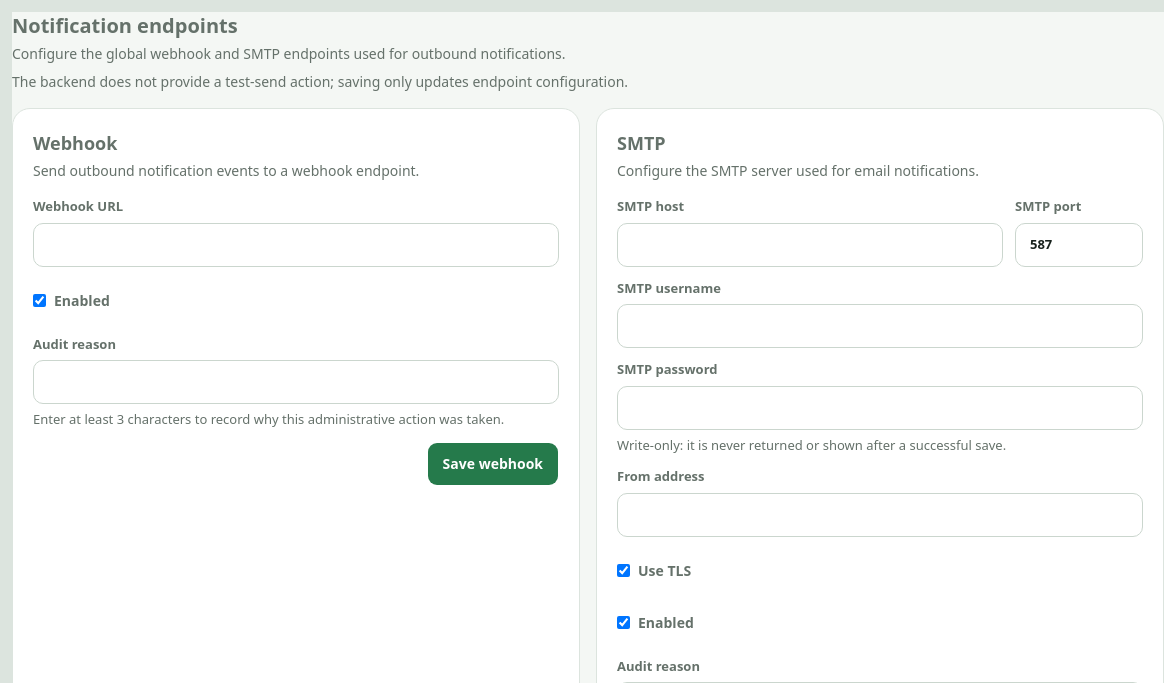
it: shows a localized error without hiding the rest of the form when saving fails
The width and height of the screenshot is (1164, 683).
Check: the heading "Notification endpoints" is shown, box [12,12,238,39]
Type "https://hooks.example.test/frostvault" into the field labelled "Webhook URL" at (296, 244), box [33,222,559,266]
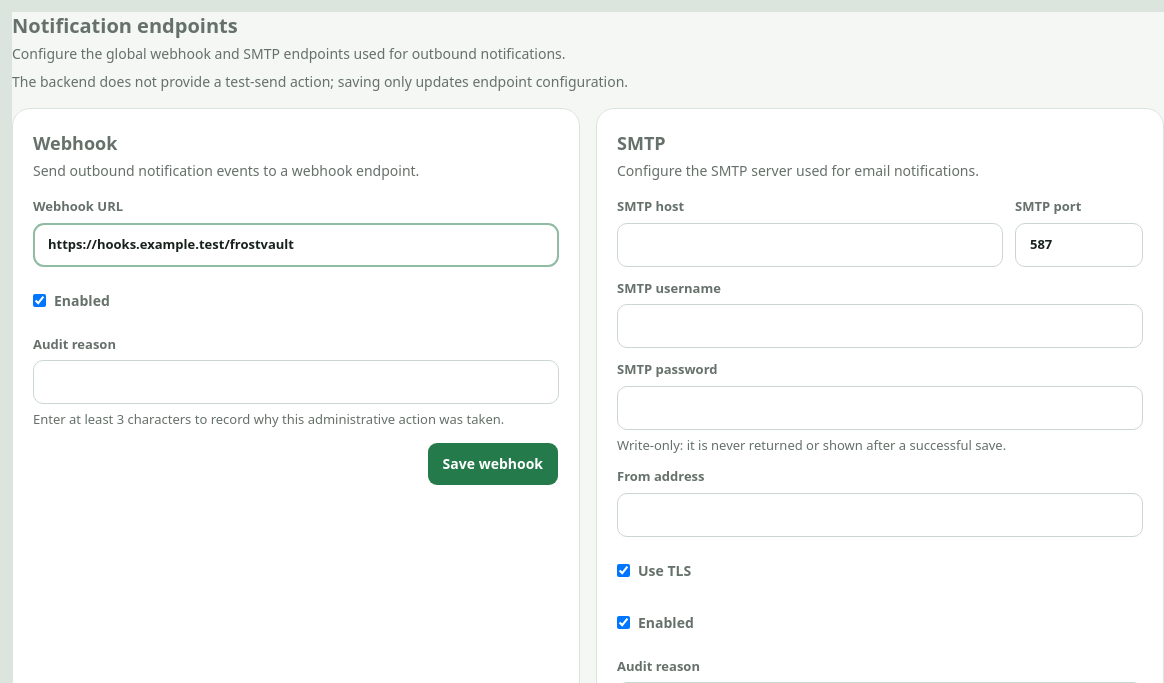
Type "retry webhook" into the field labelled "Audit reason" below "Webhook URL" at (296, 382), box [33,360,559,404]
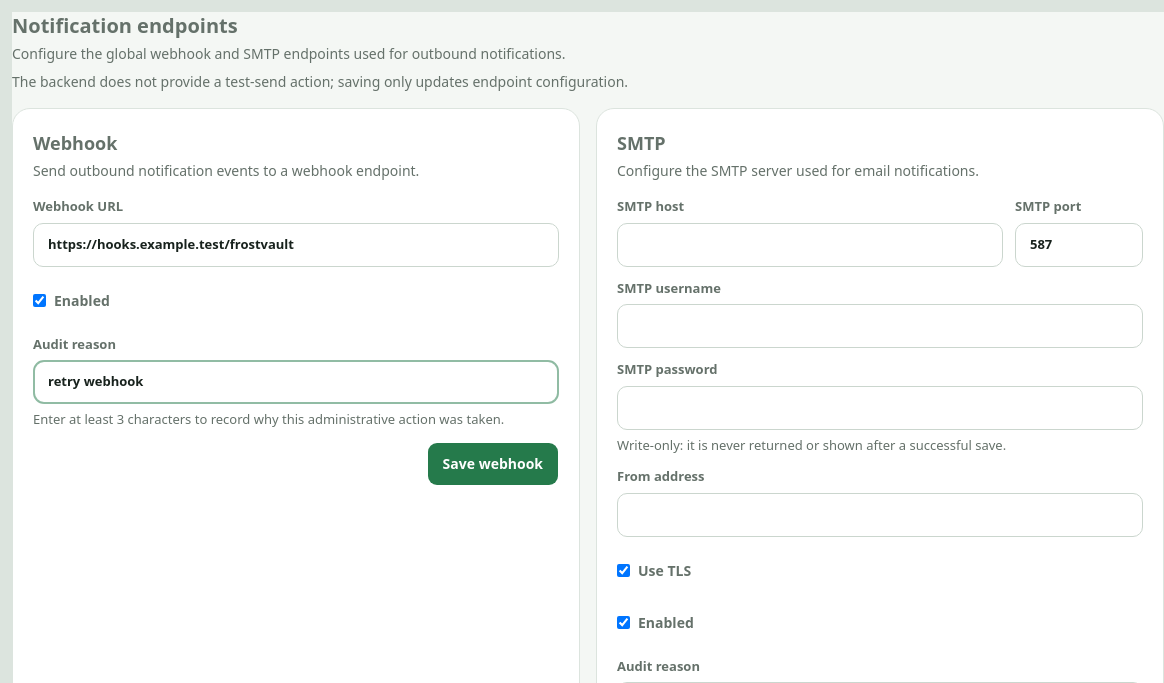
Click the button "Save webhook" at (493, 464), box [427,442,559,486]
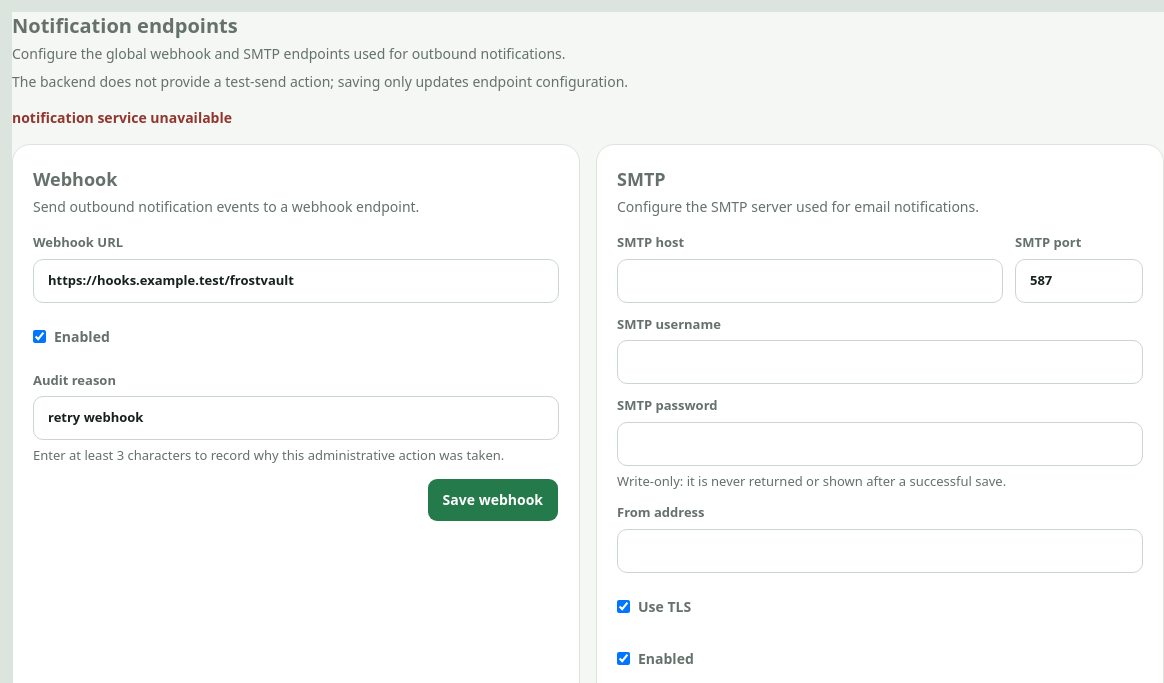
Check: the message reads "notification service unavailable", box [12,108,232,127]
